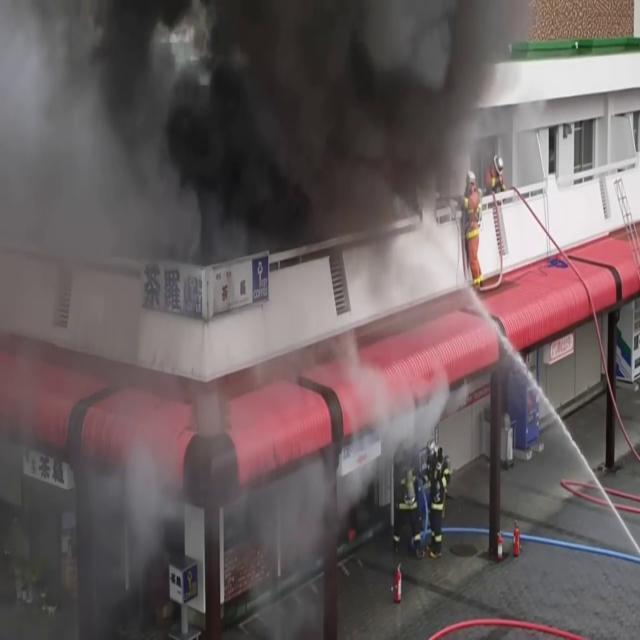Smoke: (0, 0, 486, 303)
